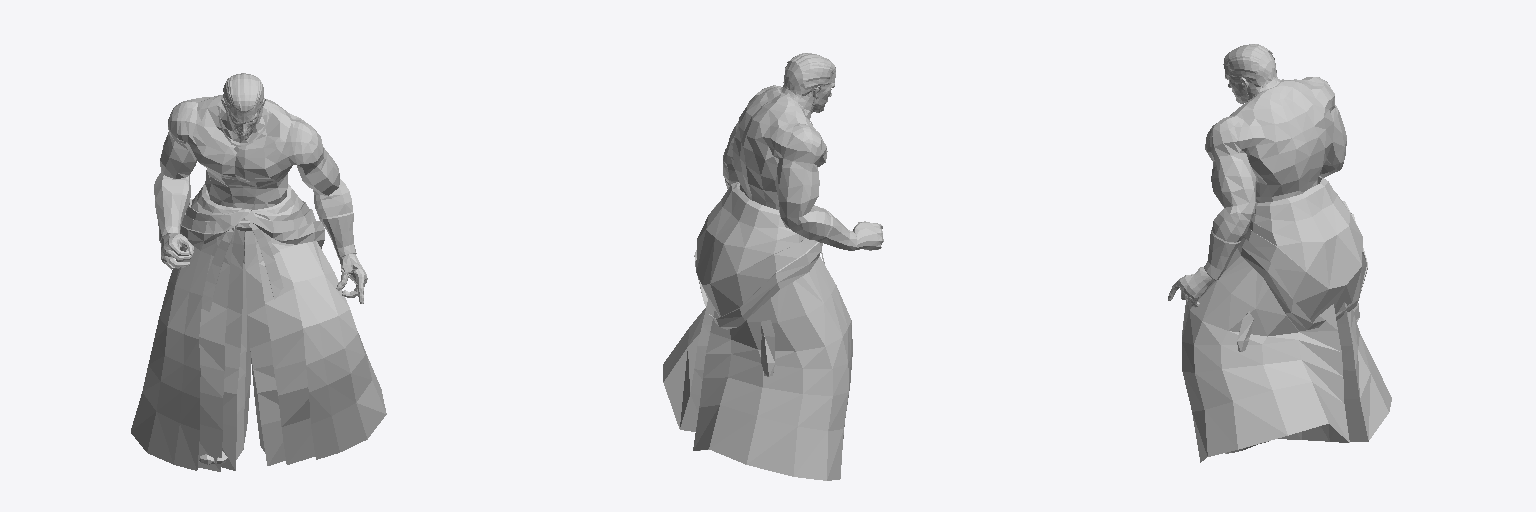
Rendered from geese_walk_000003.obj.
The picture shows the model from 3 angles: view 1: azimuth 30°, elevation 25°; view 2: azimuth 150°, elevation 25°; view 3: azimuth 270°, elevation 25°; orthographic projection.
Visible parts, largest first — view 1: GamemodelShape1.003, hairShape.001; view 2: GamemodelShape1.003, hairShape.001; view 3: GamemodelShape1.003, hairShape.001.
Boxes of the visible parts, x1=… form: GamemodelShape1.003: x1=131, y1=95, x2=386, y2=471; hairShape.001: x1=223, y1=73, x2=263, y2=112; GamemodelShape1.003: x1=663, y1=73, x2=883, y2=480; hairShape.001: x1=782, y1=53, x2=835, y2=99; GamemodelShape1.003: x1=1168, y1=65, x2=1391, y2=462; hairShape.001: x1=1223, y1=44, x2=1278, y2=87.
Size of the model in its own units: 2.68 by 4.83 by 2.5.